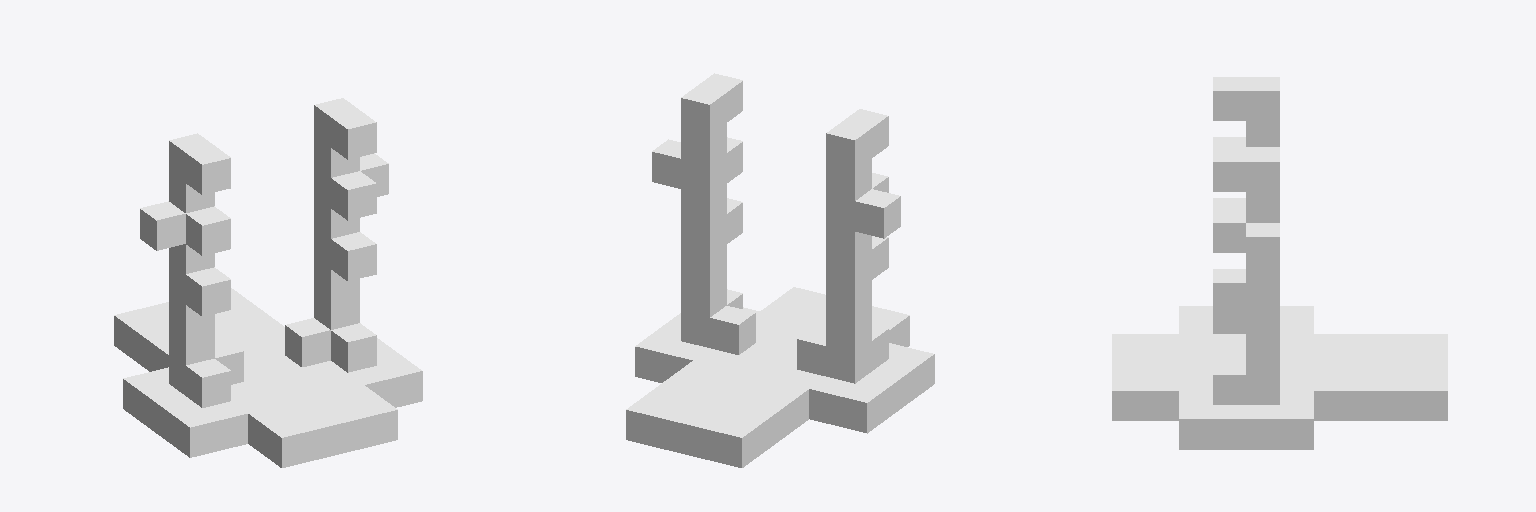
Rendered from Extra-11-Transtellar_LandingPod.obj.
3 renders of one model, left to right at view 1: azimuth 30°, elevation 25°; view 2: azimuth 150°, elevation 25°; view 3: azimuth 270°, elevation 25°, orthographic.
Parts seen in each view (by area): view 1: Transtellar_LandingPod; view 2: Transtellar_LandingPod; view 3: Transtellar_LandingPod.
Boxes of the visible parts, box(x1,y1,x2,y2) form: Transtellar_LandingPod: box(114, 98, 422, 467); Transtellar_LandingPod: box(626, 73, 934, 467); Transtellar_LandingPod: box(1112, 77, 1447, 449).
Bounding box in the file's own units: 0.8 × 0.9 × 1.